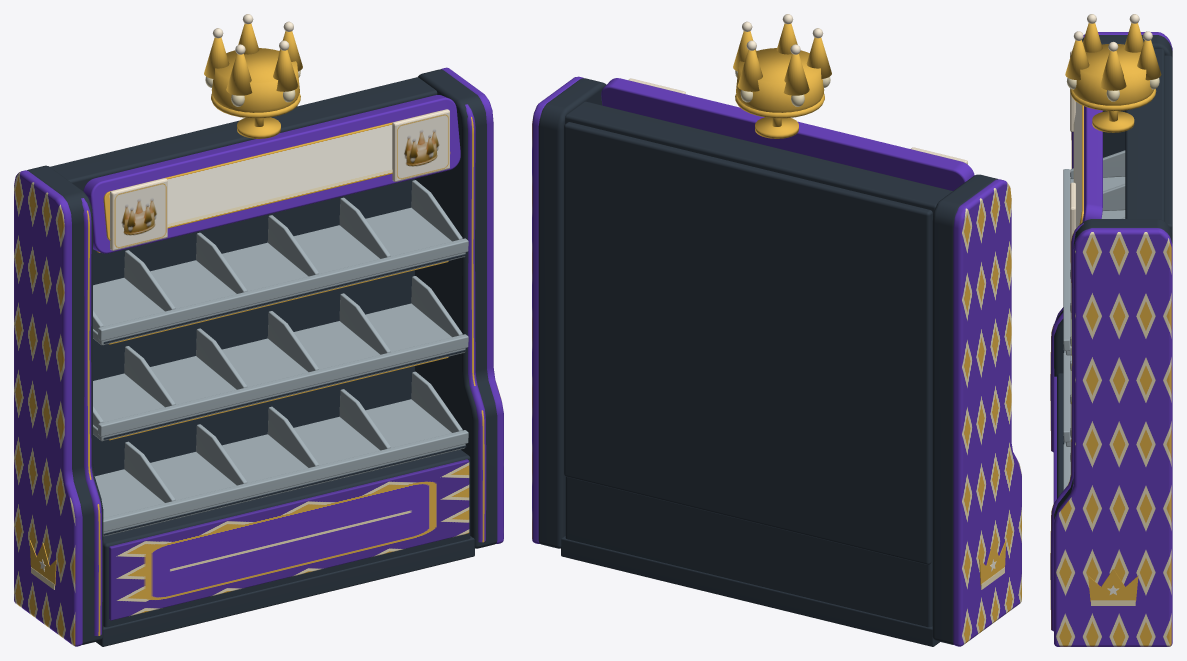
File: TH_ROYAL.fbx
3 views of the same model, side by side, from view 1: azimuth 30°, elevation 25°; view 2: azimuth 150°, elevation 25°; view 3: azimuth 270°, elevation 25° (orthographic). The views are drawn at different scales.
Parts seen in each view (by area): view 1: BaseFrontInset, Left_PaintedPanel, BackPanel.001, Right_StructuralWall, Tray_01, Tray_02, Tray_03, HeaderFace, HeaderBorder, TopCrossRail, Left_StructuralWall, ClosedSolidBase (+35 smaller); view 2: BackPanel.001, Left_PaintedPanel, ClosedSolidBase, Right_StructuralWall, HeaderBorder, Left_StructuralWall, TopCrossRail, LowerPlinth, Right_PaintedPanel, Crown band, Crown point.002, TopperMount (+1 smaller); view 3: Right_PaintedPanel, TopCrossRail, Crown band, HeaderBorder, Left_StructuralWall, BackPanel.001, FrontLip_01, RightHousing, HeaderFace, Right_StructuralWall, Relief.009, ClosedSolidBase (+18 smaller).
Part boxes in pixels (x1,y1,x2,y2): BaseFrontInset: (109,459,469,620); Left_PaintedPanel: (14,170,82,646); BackPanel.001: (93,178,414,476); Right_StructuralWall: (415,69,497,548); Tray_01: (93,207,465,345); Tray_02: (93,303,465,441); Tray_03: (94,399,465,536); HeaderFace: (103,112,450,240); HeaderBorder: (83,95,460,253); TopCrossRail: (50,77,437,191); Left_StructuralWall: (27,165,103,644); ClosedSolidBase: (103,449,470,627); BackPanel.001: (564,122,932,564); Left_PaintedPanel: (953,179,1021,646); ClosedSolidBase: (565,477,932,627); Right_StructuralWall: (538,78,606,548); HeaderBorder: (601,78,974,190); Left_StructuralWall: (932,174,997,644); TopCrossRail: (565,101,952,216); LowerPlinth: (561,536,939,646); Right_PaintedPanel: (532,76,583,543); Crown band: (736,48,824,112); Crown point.002: (783,54,809,95); TopperMount: (755,117,798,138); Right_PaintedPanel: (1054,228,1172,646); TopCrossRail: (1125,48,1164,221); Crown band: (1072,44,1154,105); HeaderBorder: (1082,106,1102,222); Left_StructuralWall: (1054,35,1172,376); BackPanel.001: (1164,55,1172,234); FrontLip_01: (1063,169,1070,350); RightHousing: (1050,223,1083,631); HeaderFace: (1073,102,1083,228); Right_StructuralWall: (1054,219,1172,519); Relief.009: (1088,569,1138,601); ClosedSolidBase: (1057,373,1063,498).
Size of the model in its own units: 3.62 by 4.4 by 0.9273.
